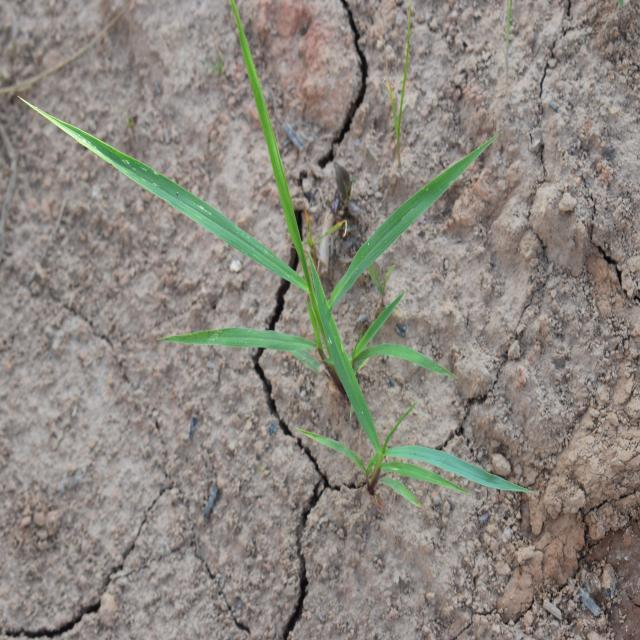green_foxtail: (84, 89, 413, 414), (324, 334, 528, 508)
